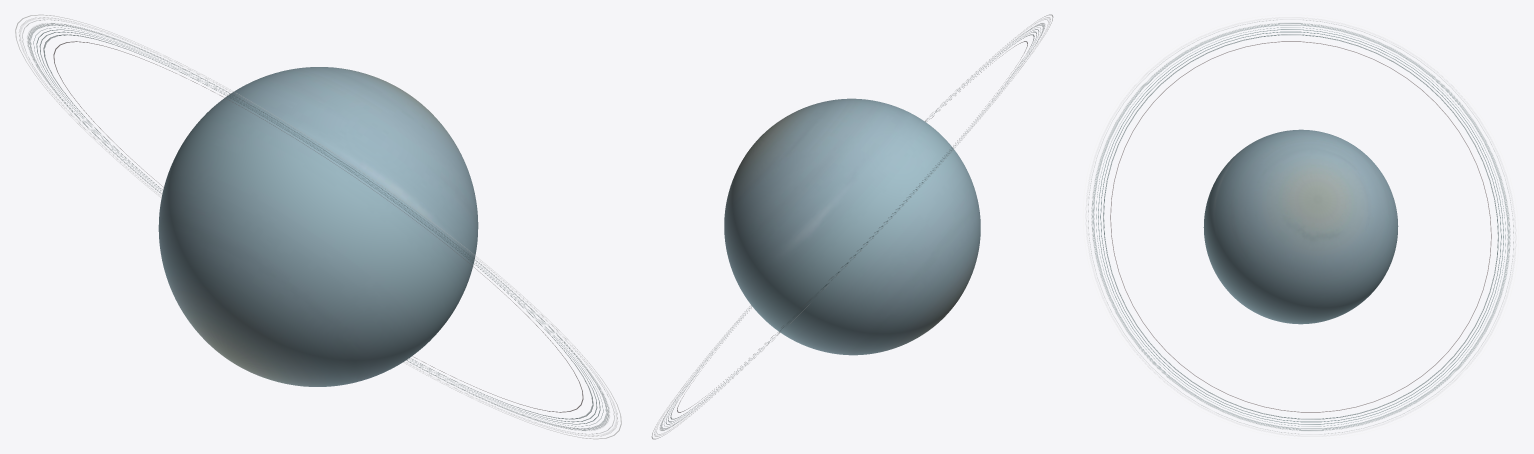
File: uranus.glb
3 views of the same model, side by side, from view 1: azimuth 30°, elevation 25°; view 2: azimuth 150°, elevation 25°; view 3: azimuth 270°, elevation 25° (orthographic). The views are drawn at different scales.
Parts seen in each view (by area): view 1: Uranus, UranusRings; view 2: Uranus, UranusRings; view 3: Uranus, UranusRings.
Boxes of the visible parts, box(x1,y1,x2,y2) form: Uranus: box(158, 67, 478, 386); UranusRings: box(15, 14, 621, 439); Uranus: box(724, 98, 980, 355); UranusRings: box(651, 14, 1053, 439); Uranus: box(1203, 129, 1398, 324); UranusRings: box(1082, 14, 1519, 439).
Size of the model in its own units: 3.05 by 3.41 by 4.45.
Materials: 2 (2 with a texture image).
